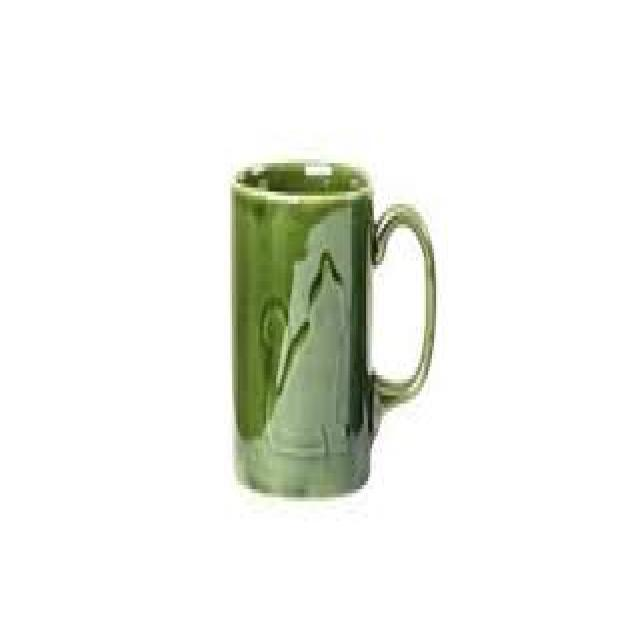taza: (231, 156, 437, 502)
